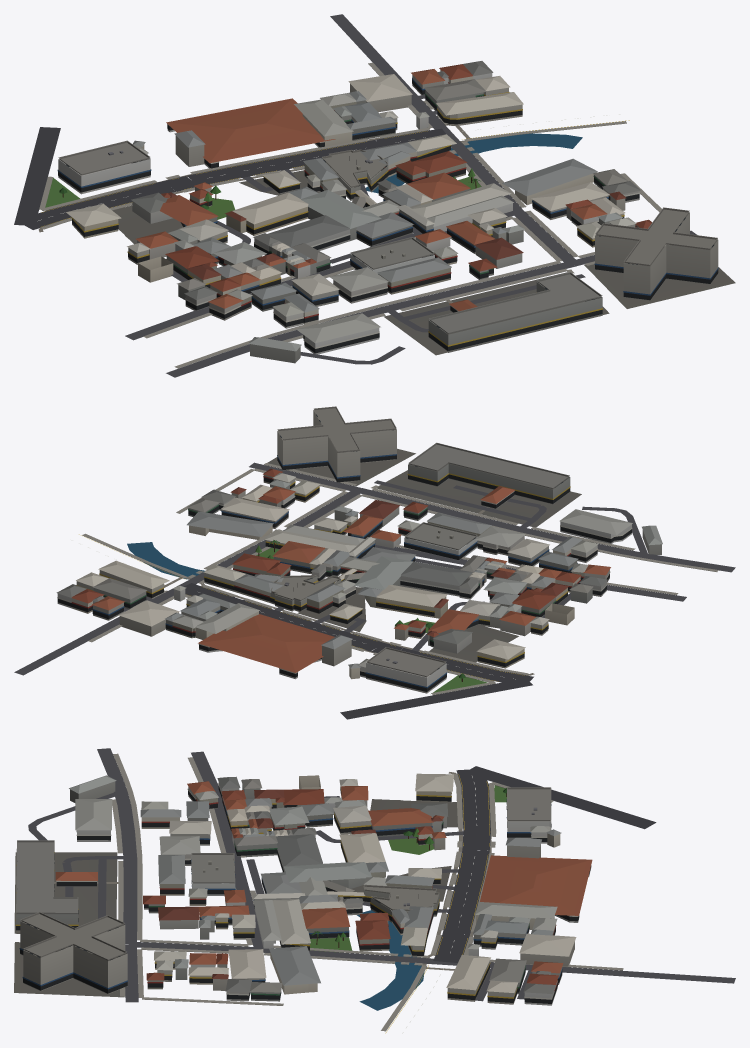
3 views of the same model, one above another, from view 1: azimuth 30°, elevation 25°; view 2: azimuth 150°, elevation 25°; view 3: azimuth 270°, elevation 25° (orthographic). The views are drawn at different scales.
Parts seen in each view (by area): view 1: Buildings__r-11c-5-col, Roads_Minor__r-11c-5, Spianada Condominiums-col, Windows__r-11c-5, Plaza Nouvelle-col, Landuse__r-11c-5, Sidewalks__r-11c-5-col, Roads_Major__r-11c-5, The Rivergate Mall-col, Chua Building-col, Cherry Court Building-col, Water__r-11c-5 (+4 smaller); view 2: Buildings__r-11c-5-col, Roads_Minor__r-11c-5, Landuse__r-11c-5, Windows__r-11c-5, Spianada Condominiums-col, Plaza Nouvelle-col, Sidewalks__r-11c-5-col, Roads_Major__r-11c-5, The Rivergate Mall-col, Cherry Court Building-col, Chua Building-col, Water__r-11c-5 (+4 smaller); view 3: Buildings__r-11c-5-col, Roads_Minor__r-11c-5, Spianada Condominiums-col, Roads_Major__r-11c-5, Sidewalks__r-11c-5-col, Landuse__r-11c-5, Windows__r-11c-5, Plaza Nouvelle-col, The Rivergate Mall-col, Cherry Court Building-col, Water__r-11c-5, Chua Building-col (+4 smaller).
Part boxes in pixels (left/top/right/bottom): Buildings__r-11c-5-col: left=66, top=61, right=651, bottom=363; Roads_Minor__r-11c-5: left=125, top=14, right=697, bottom=377; Spianada Condominiums-col: left=594, top=207, right=718, bottom=300; Windows__r-11c-5: left=71, top=78, right=639, bottom=353; Plaza Nouvelle-col: left=428, top=272, right=602, bottom=352; Landuse__r-11c-5: left=45, top=170, right=735, bottom=355; Sidewalks__r-11c-5-col: left=39, top=62, right=669, bottom=368; Roads_Major__r-11c-5: left=14, top=127, right=445, bottom=229; The Rivergate Mall-col: left=57, top=140, right=151, bottom=194; Chua Building-col: left=436, top=92, right=523, bottom=125; Cherry Court Building-col: left=322, top=149, right=388, bottom=200; Water__r-11c-5: left=365, top=133, right=582, bottom=193; Buildings__r-11c-5-col: left=56, top=468, right=662, bottom=679; Roads_Minor__r-11c-5: left=14, top=462, right=735, bottom=675; Landuse__r-11c-5: left=256, top=438, right=581, bottom=693; Windows__r-11c-5: left=57, top=476, right=632, bottom=677; Spianada Condominiums-col: left=277, top=406, right=396, bottom=483; Plaza Nouvelle-col: left=407, top=442, right=570, bottom=504; Sidewalks__r-11c-5-col: left=82, top=463, right=718, bottom=695; Roads_Major__r-11c-5: left=184, top=583, right=533, bottom=719; The Rivergate Mall-col: left=365, top=647, right=447, bottom=693; Cherry Court Building-col: left=270, top=575, right=341, bottom=611; Chua Building-col: left=98, top=560, right=169, bottom=598; Water__r-11c-5: left=127, top=542, right=204, bottom=579; Buildings__r-11c-5-col: left=55, top=773, right=592, bottom=1005; Roads_Minor__r-11c-5: left=28, top=748, right=735, bottom=1002; Spianada Condominiums-col: left=19, top=912, right=127, bottom=993; Roads_Major__r-11c-5: left=433, top=766, right=656, bottom=962; Sidewalks__r-11c-5-col: left=112, top=753, right=623, bottom=1031; Landuse__r-11c-5: left=14, top=785, right=551, bottom=997; Windows__r-11c-5: left=56, top=783, right=591, bottom=1003; Plaza Nouvelle-col: left=15, top=840, right=78, bottom=930; The Rivergate Mall-col: left=506, top=787, right=551, bottom=838; Cherry Court Building-col: left=363, top=884, right=439, bottom=922; Water__r-11c-5: left=357, top=910, right=424, bottom=1010; Chua Building-col: left=446, top=955, right=490, bottom=1001.
Bounding box in the file's own units: 334 × 19.45 × 356.
